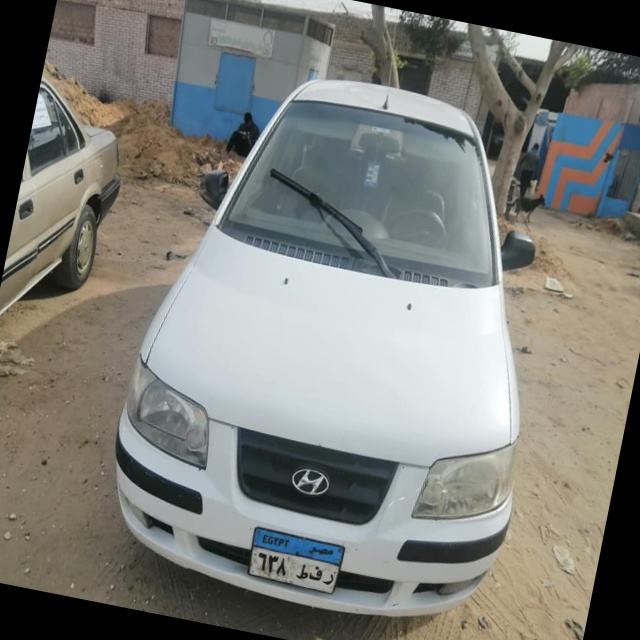License Plate: (243, 524, 347, 598)
